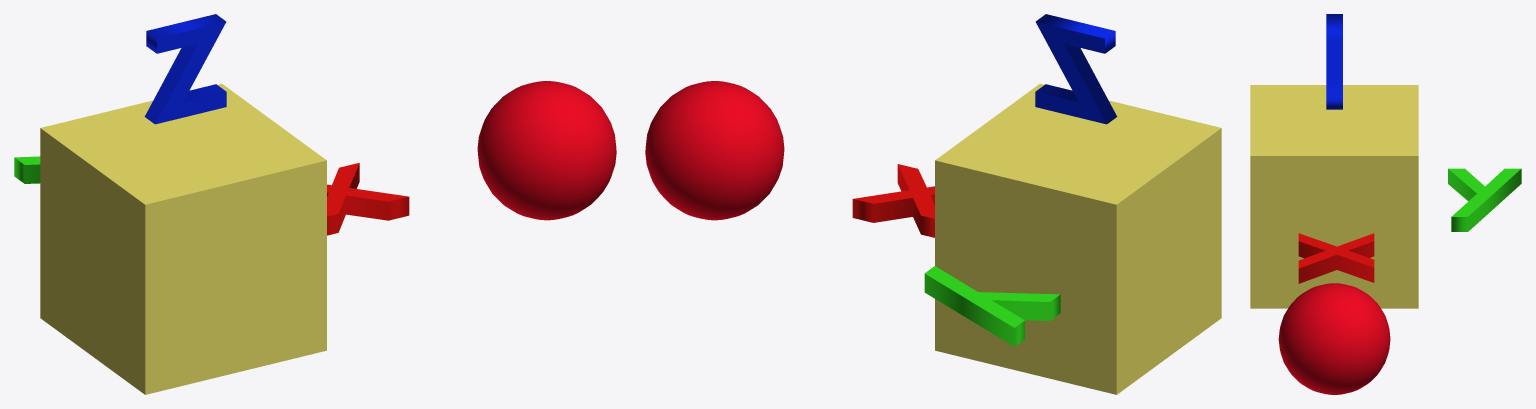
The model's file is mire.glb.
3 renders of one model, left to right at view 1: azimuth 30°, elevation 25°; view 2: azimuth 150°, elevation 25°; view 3: azimuth 270°, elevation 25°, orthographic. The views are drawn at different scales.
Parts seen in each view (by area): view 1: Cube, Sphere, Text.002, Text, Text.001; view 2: Cube, Sphere, Text.002, Text.001, Text; view 3: Cube, Sphere, Text, Text.001, Text.002.
Part boxes in pixels (left/top/right/bottom): Cube: left=40, top=83, right=326, bottom=394; Sphere: left=477, top=81, right=616, bottom=220; Text.002: left=144, top=14, right=226, bottom=124; Text: left=327, top=163, right=409, bottom=235; Text.001: left=14, top=156, right=40, bottom=183; Cube: left=935, top=83, right=1221, bottom=394; Sphere: left=645, top=81, right=784, bottom=220; Text.002: left=1035, top=14, right=1117, bottom=124; Text.001: left=924, top=266, right=1060, bottom=346; Text: left=852, top=164, right=934, bottom=237; Cube: left=1250, top=85, right=1418, bottom=308; Sphere: left=1278, top=283, right=1390, bottom=394; Text: left=1298, top=233, right=1374, bottom=283; Text.001: left=1448, top=168, right=1521, bottom=231; Text.002: left=1326, top=14, right=1342, bottom=109.
Bounding box in the file's own units: 2.83 × 1.62 × 1.61.
